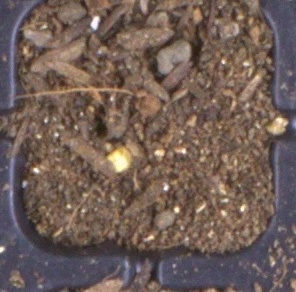chilli seed: (105, 146, 132, 173)
